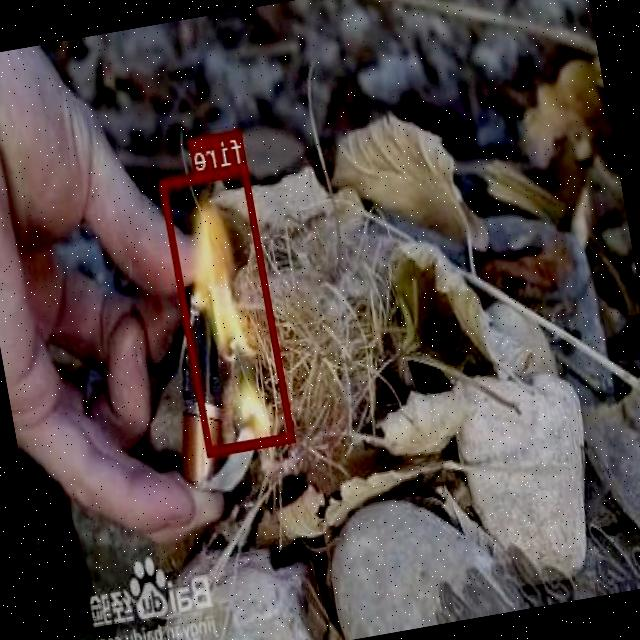fire: (160, 163, 295, 455)
